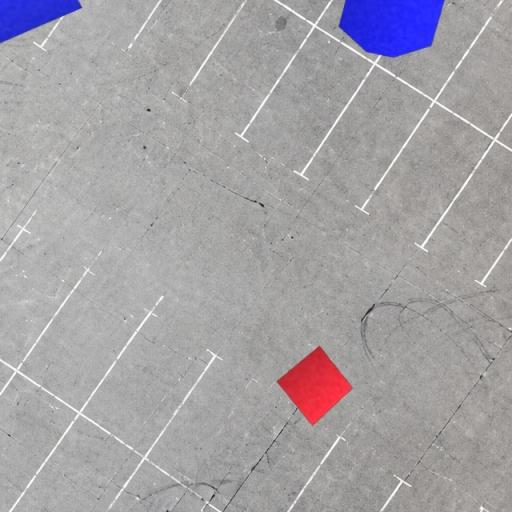RED_SQUARE: (276, 346, 354, 426)
